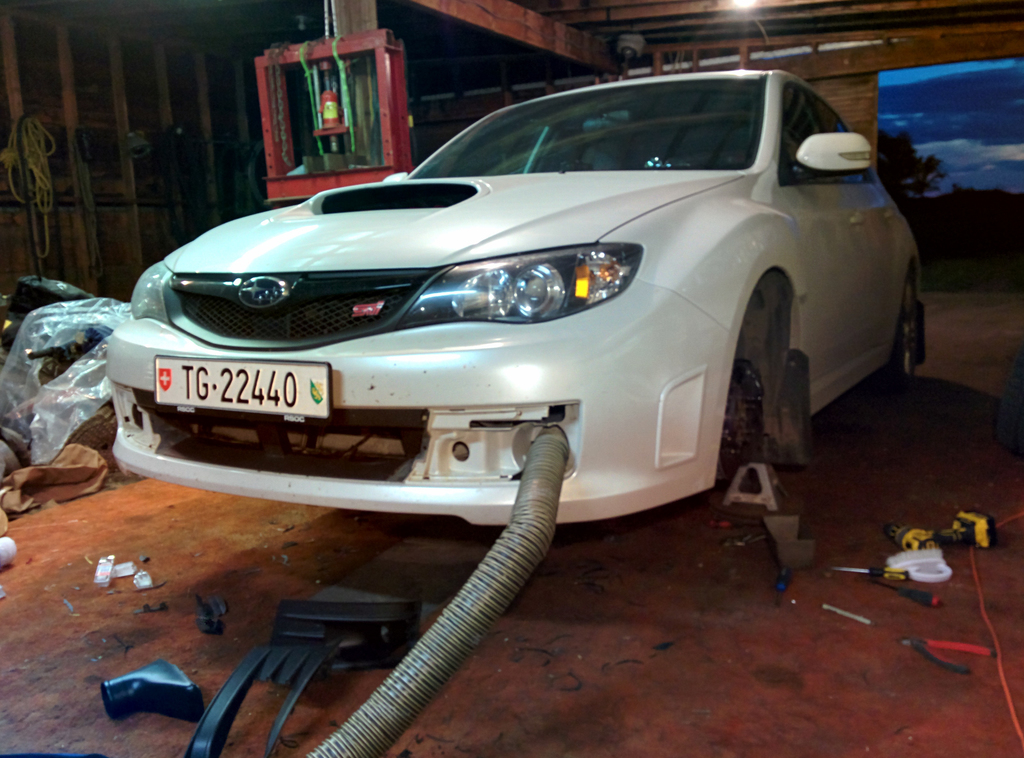Car: (97, 64, 928, 553)
